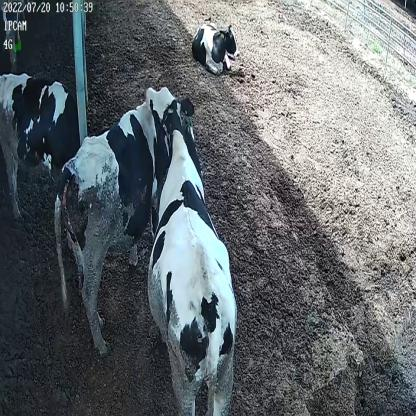cow: (52, 94, 206, 354), (144, 83, 239, 416), (0, 69, 80, 219), (191, 18, 240, 75)
